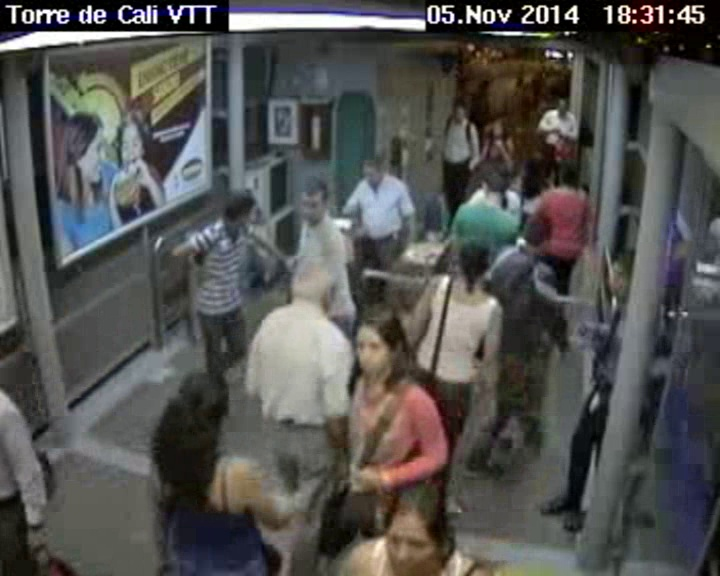person: (154, 364, 236, 458), (382, 474, 457, 574), (287, 248, 355, 329), (350, 294, 403, 383), (597, 245, 649, 304), (219, 185, 264, 238), (450, 241, 494, 289), (522, 208, 553, 259), (295, 176, 328, 223), (472, 165, 507, 205), (356, 152, 387, 189), (530, 139, 559, 175), (555, 158, 582, 194), (449, 99, 471, 121), (490, 115, 508, 139), (555, 98, 569, 118)
